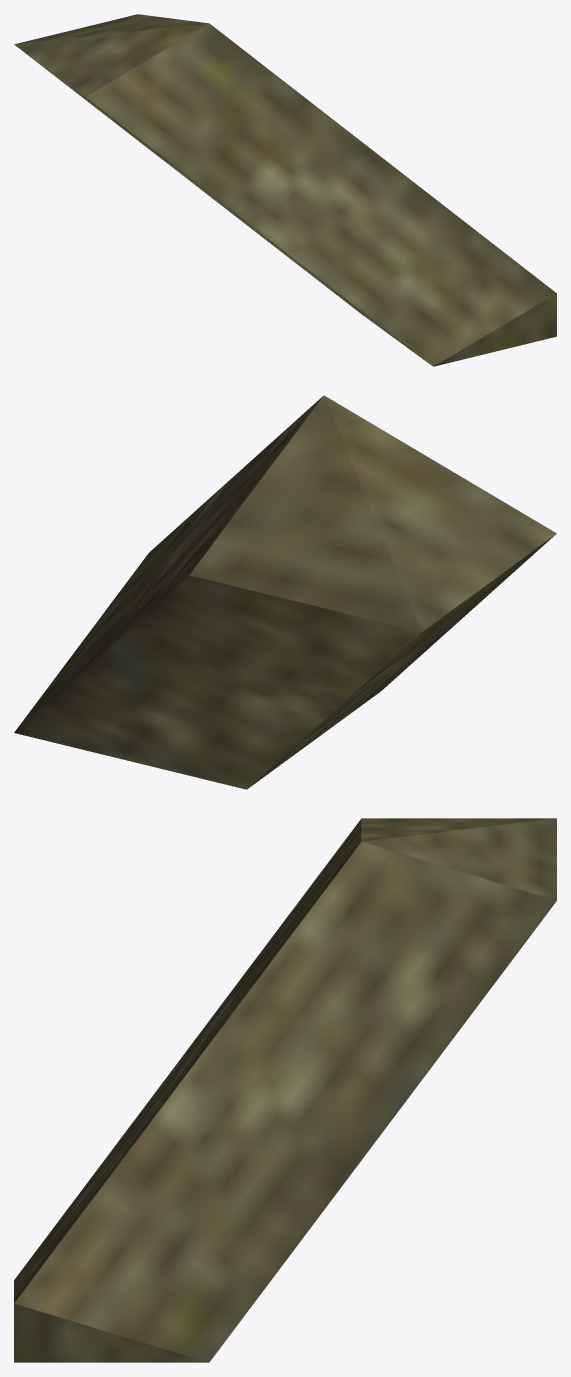
File: poplar_branch_45_diagonal.obj
3 renders of one model, top to bottom at view 1: azimuth 30°, elevation 25°; view 2: azimuth 150°, elevation 25°; view 3: azimuth 270°, elevation 25°, orthographic. The views are drawn at different scales.
Visible parts, largest first — view 1: cube; view 2: cube; view 3: cube.
Part boxes in pixels (x1,y1,x2,y2): cube: [14, 14, 556, 366]; cube: [14, 395, 556, 789]; cube: [14, 818, 556, 1362].
Size of the model in its own units: 1.56 by 1.19 by 1.56.
